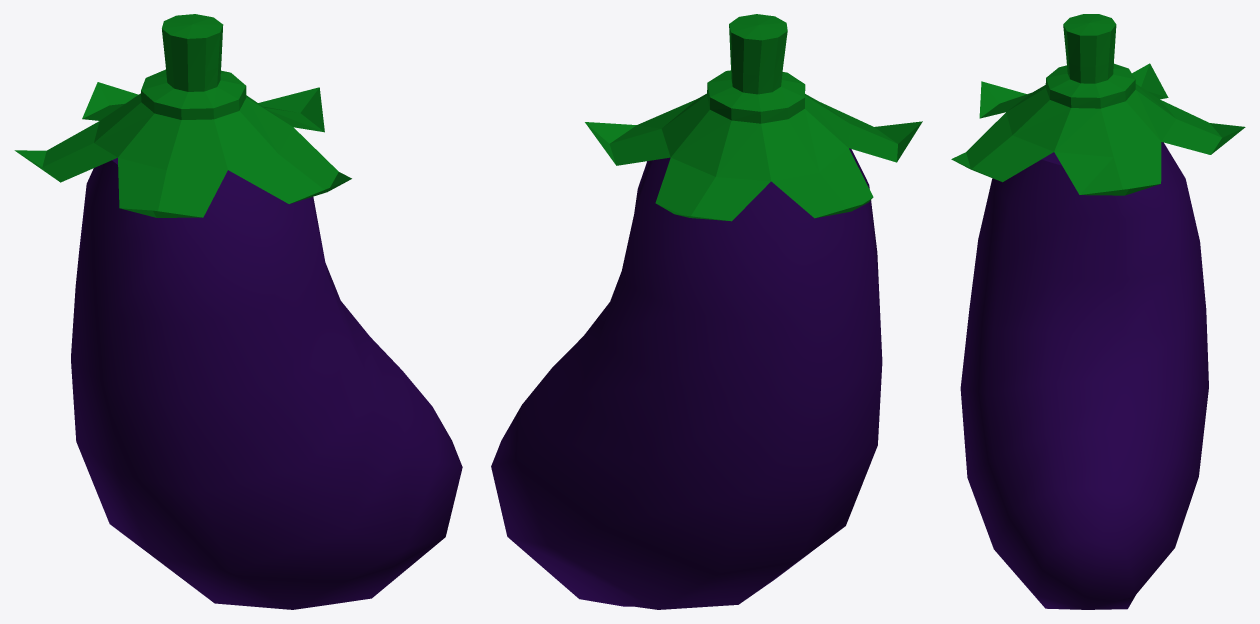
The model's file is nasu_l.fbx.
3 views of the same model, side by side, from view 1: azimuth 30°, elevation 25°; view 2: azimuth 150°, elevation 25°; view 3: azimuth 270°, elevation 25° (orthographic). The views are drawn at different scales.
Parts seen in each view (by area): view 1: pSphere1, pSphere2; view 2: pSphere1, pSphere2; view 3: pSphere1, pSphere2.
Boxes of the visible parts, x1,y1,x2,y2 form: pSphere1: (71, 158, 462, 609); pSphere2: (14, 14, 351, 217); pSphere1: (491, 148, 882, 609); pSphere2: (585, 14, 922, 221); pSphere1: (960, 142, 1208, 609); pSphere2: (951, 14, 1245, 195).
Size of the model in its own units: 0.906 by 1.33 by 0.6723.
